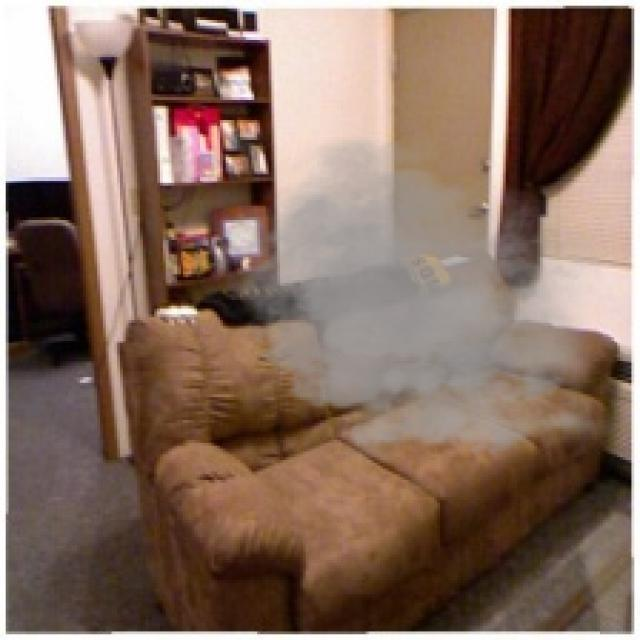Smoke: (211, 126, 626, 472)
